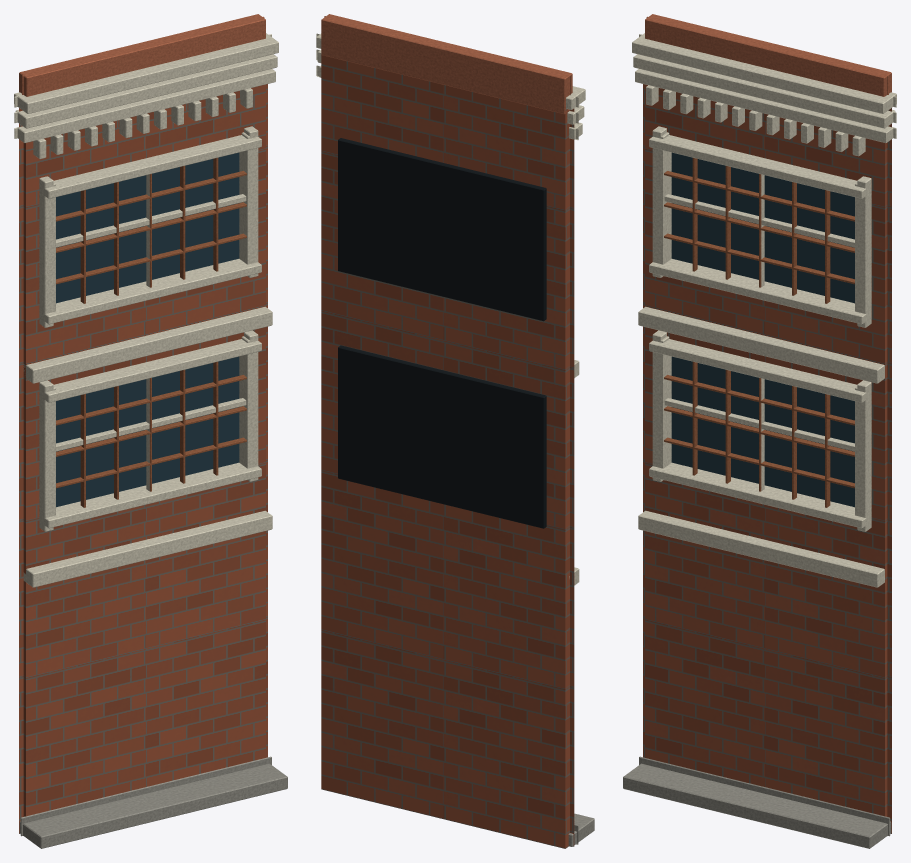
Rendered from WRHS3_lod1.glb.
3 renders of one model, left to right at view 1: azimuth 30°, elevation 25°; view 2: azimuth 150°, elevation 25°; view 3: azimuth 330°, elevation 25°, orthographic.
Visible parts, largest first — view 1: WRHS3_FRONT_LOD1; view 2: WRHS3_FRONT_LOD1; view 3: WRHS3_FRONT_LOD1.
Boxes of the visible parts, x1,y1,x2,y2 form: WRHS3_FRONT_LOD1: [14, 14, 287, 848]; WRHS3_FRONT_LOD1: [316, 14, 594, 848]; WRHS3_FRONT_LOD1: [623, 14, 896, 848].
Size of the model in its own units: 3.44 by 9.66 by 0.65.
Materials: 8 (6 with a texture image).
